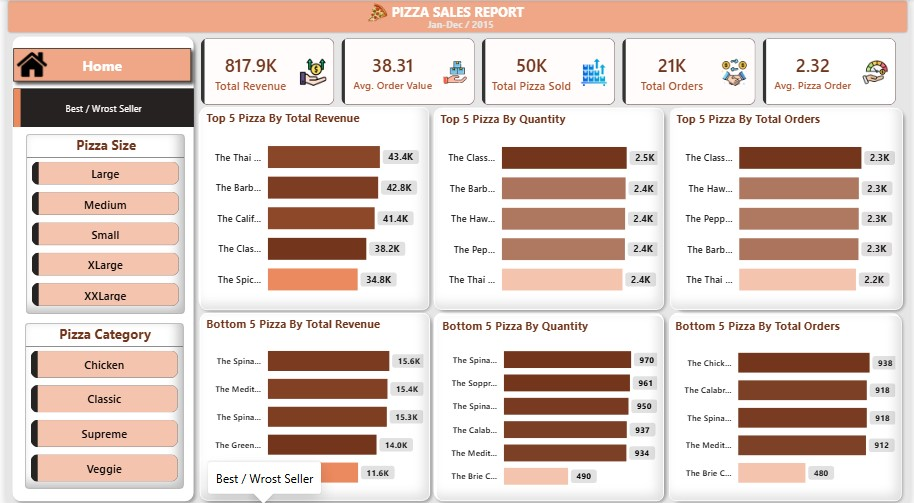

Layout of this report page (visuals, bound fields, positions):
{"tool":"powerbi","page":{"name":"Best / Wrost Seller","canvas":[1280,720],"ordinal":1},"visuals":[{"type":"cardVisual","fields":{"Data":["pizza_sales.Total Sales","pizza_sales.Avg. Order Value","pizza_sales.Total Pizza Sold","pizza_sales.Total Orders","pizza_sales.Avg. Pizza Order"]},"box":[259.2,38.9,1021,129.6],"z":0},{"type":"shape","box":[0,0,1280.2,50.4],"z":1000},{"type":"textbox","box":[514.1,0,252,50.4],"z":2000},{"type":"textbox","box":[591.8,23,141.1,27.4],"z":3000},{"type":"shape","box":[0,43.9,275,677],"z":4000},{"type":"shape","box":[265,434.9,345,285.1],"z":5000},{"type":"shape","box":[596.7,435.1,345,284.9],"z":6000},{"type":"shape","box":[931.2,435.1,345.8,284.9],"z":7000},{"type":"image","box":[473.4,2.8,103.5,34],"z":8000},{"type":"shape","box":[263.6,144.6,344.4,304.7],"z":9000},{"type":"clusteredBarChart","title":"Top 5 Pizza By Total Revenue","fields":{"Category":["pizza_sales.pizza_name"],"Y":["pizza_sales.Total Sales"]},"box":[275,153.1,324.6,287.7],"z":10000},{"type":"shape","box":[596.7,144.6,344.4,304.7],"z":11000},{"type":"clusteredBarChart","title":"Bottom 5 Pizza By Total Revenue","fields":{"Category":["pizza_sales.pizza_name"],"Y":["pizza_sales.Total Sales"]},"box":[275,445,326,266.5],"z":12000},{"type":"shape","box":[935.4,144.6,344.4,304.7],"z":13000},{"type":"clusteredBarChart","title":"Top 5 Pizza By Quantity","fields":{"Category":["pizza_sales.pizza_name"],"Y":["Sum(pizza_sales.quantity)"]},"box":[606.6,154.5,326,286.3],"z":14000},{"type":"clusteredBarChart","title":"Top 5 Pizza By Total Orders","fields":{"Category":["pizza_sales.pizza_name"],"Y":["pizza_sales.Total Orders"]},"box":[941.1,154.5,330.2,286.3],"z":15000},{"type":"clusteredBarChart","title":"Bottom 5 Pizza By Quantity","fields":{"Category":["pizza_sales.pizza_name"],"Y":["Sum(pizza_sales.quantity)"]},"box":[609.8,448.5,322.5,263.7],"z":16000},{"type":"clusteredBarChart","title":"Bottom 5 Pizza By Total Orders","fields":{"Category":["pizza_sales.pizza_name"],"Y":["pizza_sales.Total Orders"]},"box":[939.7,447.9,330.2,263.6],"z":17000},{"type":"pageNavigator","box":[8.5,124.7,260,59.5],"z":18000},{"type":"pageNavigator","box":[1.4,60.9,270.7,65.2],"z":19000},{"type":"image","box":[11.3,70.9,51,43.9],"z":20000},{"type":"advancedSlicerVisual","title":"Pizza Size","fields":{"Values":["pizza_sales.pizza_size"]},"box":[28.3,191.3,225.4,255],"z":21000},{"type":"advancedSlicerVisual","title":"Pizza Category","fields":{"Values":["pizza_sales.pizza_category"]},"box":[26.9,459.2,225.4,235.3],"z":22000}]}

Visuals, with their boxes in screenshot pixels (x1, y1, x2, y2), scaled from the page's 1280x720 canvas onto the 914x503 screenshot:
cardVisual - pizza_sales.Total Sales x pizza_sales.Avg. Order Value: x1=185, y1=27, x2=913, y2=118
shape: x1=0, y1=0, x2=913, y2=35
textbox: x1=367, y1=0, x2=547, y2=35
textbox: x1=423, y1=16, x2=523, y2=35
shape: x1=0, y1=31, x2=196, y2=502
shape: x1=189, y1=304, x2=436, y2=502
shape: x1=426, y1=304, x2=672, y2=502
shape: x1=665, y1=304, x2=912, y2=502
image: x1=338, y1=2, x2=412, y2=26
shape: x1=188, y1=101, x2=434, y2=314
"Top 5 Pizza By Total Revenue" clusteredBarChart: x1=196, y1=107, x2=428, y2=308
shape: x1=426, y1=101, x2=672, y2=314
"Bottom 5 Pizza By Total Revenue" clusteredBarChart: x1=196, y1=311, x2=429, y2=497
shape: x1=668, y1=101, x2=913, y2=314
"Top 5 Pizza By Quantity" clusteredBarChart: x1=433, y1=108, x2=666, y2=308
"Top 5 Pizza By Total Orders" clusteredBarChart: x1=672, y1=108, x2=908, y2=308
"Bottom 5 Pizza By Quantity" clusteredBarChart: x1=435, y1=313, x2=666, y2=498
"Bottom 5 Pizza By Total Orders" clusteredBarChart: x1=671, y1=313, x2=907, y2=497
pageNavigator: x1=6, y1=87, x2=192, y2=129
pageNavigator: x1=1, y1=43, x2=194, y2=88
image: x1=8, y1=50, x2=44, y2=80
"Pizza Size" advancedSlicerVisual: x1=20, y1=134, x2=181, y2=312
"Pizza Category" advancedSlicerVisual: x1=19, y1=321, x2=180, y2=485
